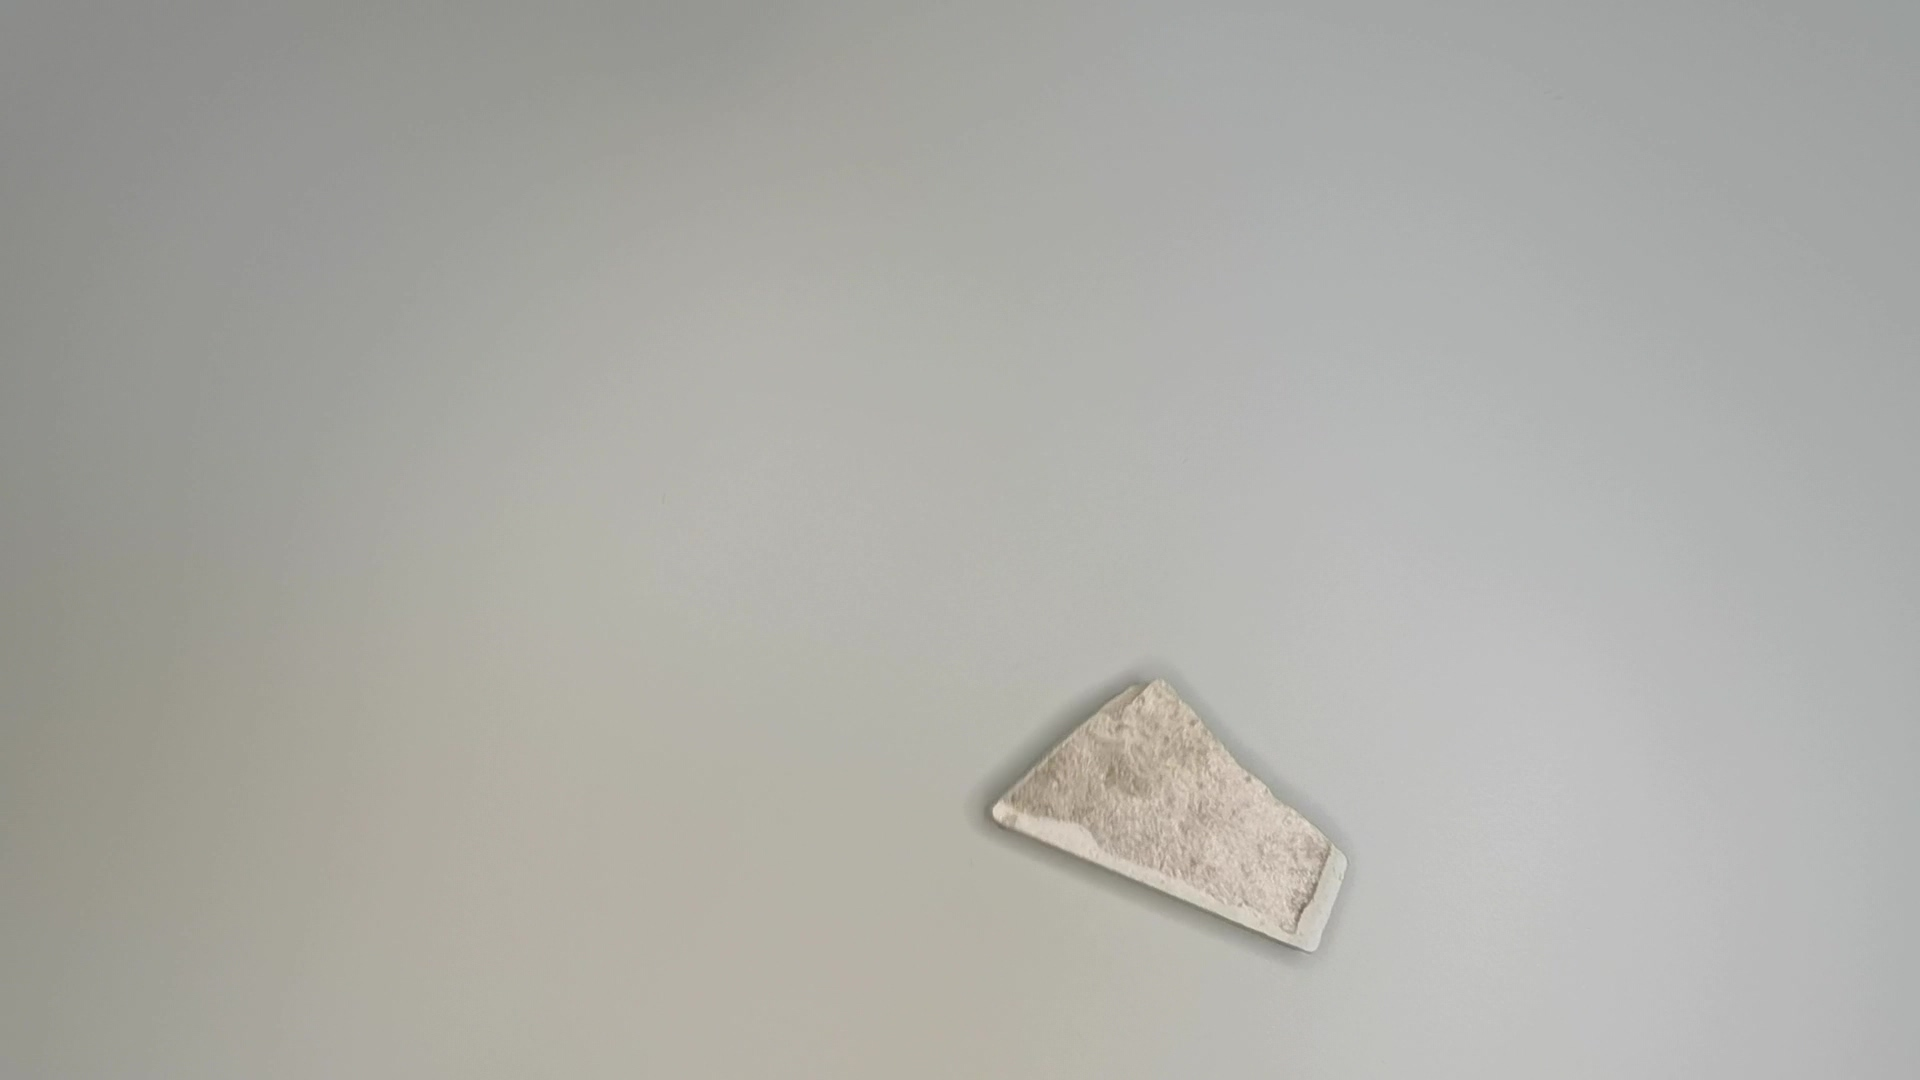ceramic: (984, 675, 1349, 967)
